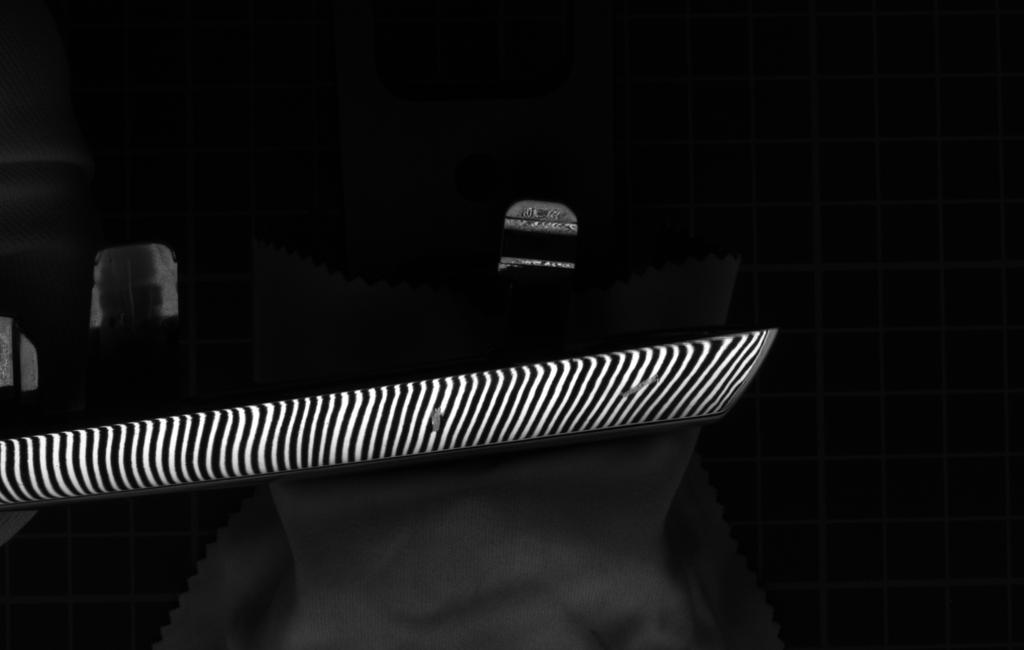Scratch: (611, 369, 667, 403), (422, 401, 455, 440)
